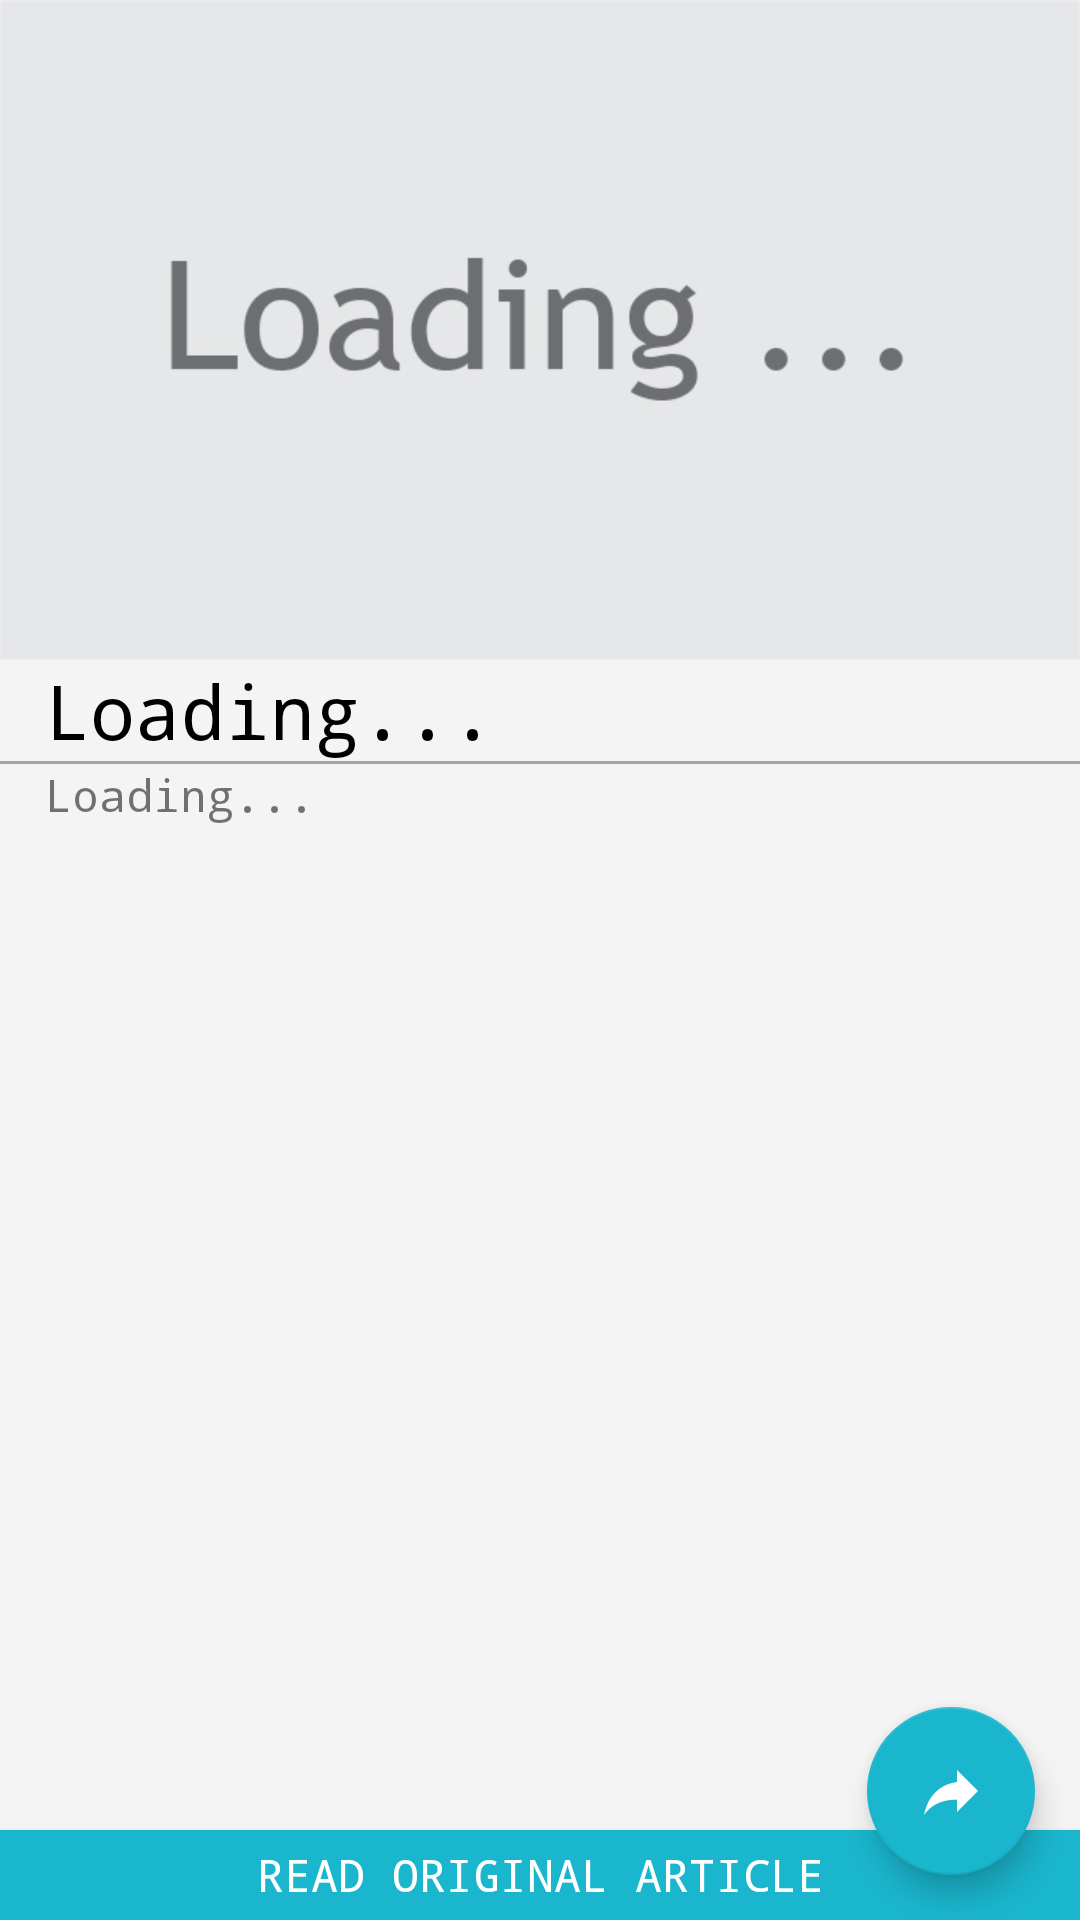

Named icons in this screenshot (1080w x 1920h) and their centers, (x=x, y=y):
share: (x=951, y=1791)
